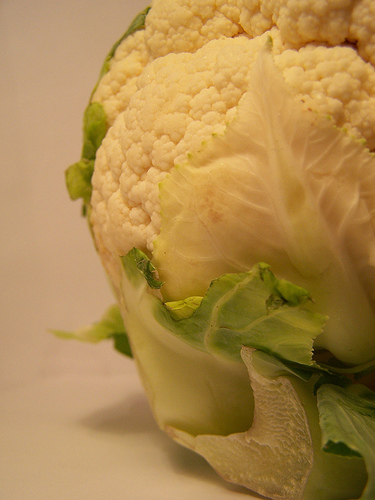cauliflower: (61, 0, 373, 498)
